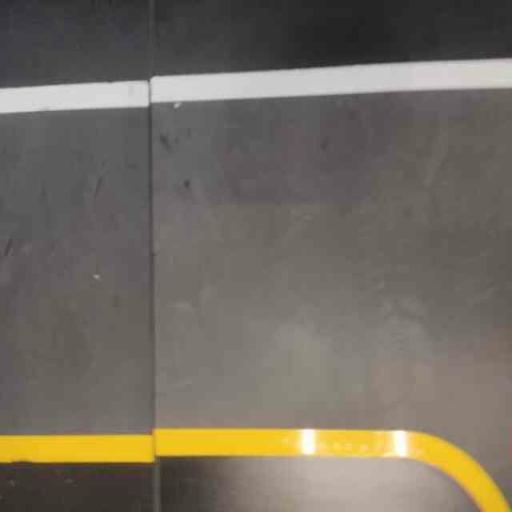straight: (0, 65, 398, 467)
